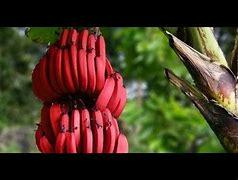banana: (20, 22, 136, 153), (30, 99, 137, 156)
